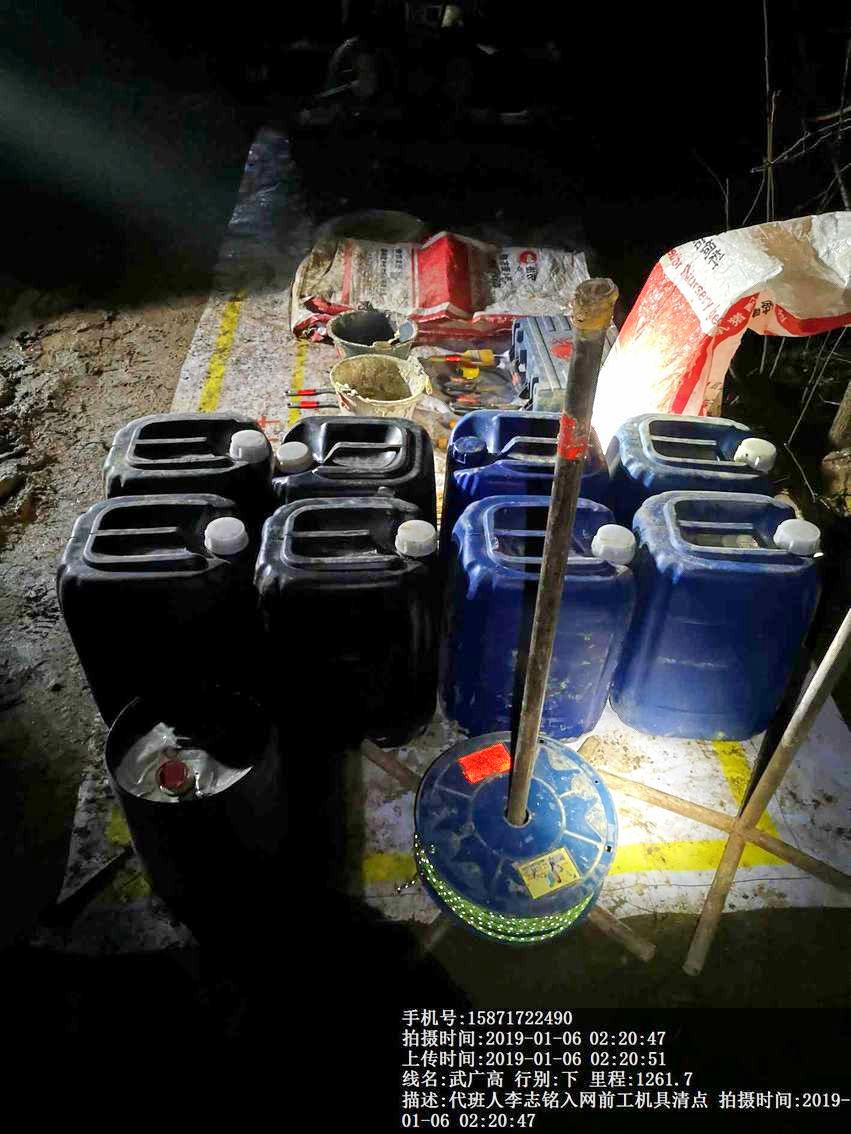BZD: (290, 227, 598, 313)
SLT: (250, 497, 438, 729), (636, 493, 803, 741), (56, 491, 246, 697), (94, 412, 266, 491), (281, 416, 436, 495)
SNT: (324, 356, 436, 422), (325, 304, 419, 352)
